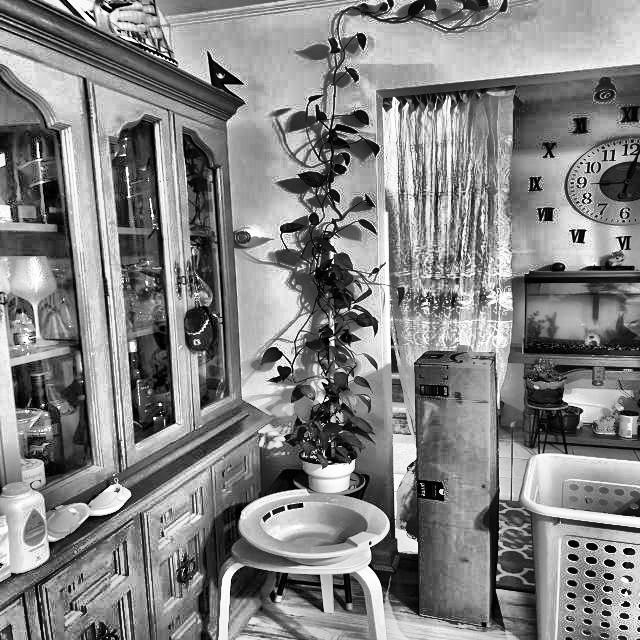plants: (288, 157, 400, 456)
